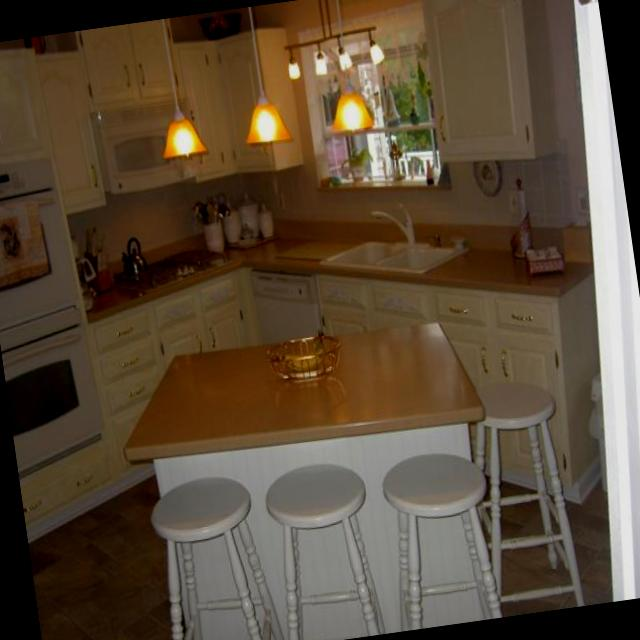cupboard: (413, 0, 559, 172), (36, 46, 108, 217), (76, 18, 182, 112), (0, 39, 51, 169)
faucet: (369, 200, 416, 250)
lamps: (228, 3, 294, 148)
plants: (336, 144, 374, 183)
pots: (196, 10, 244, 40)
table: (111, 310, 514, 640)
window: (299, 2, 446, 200)
